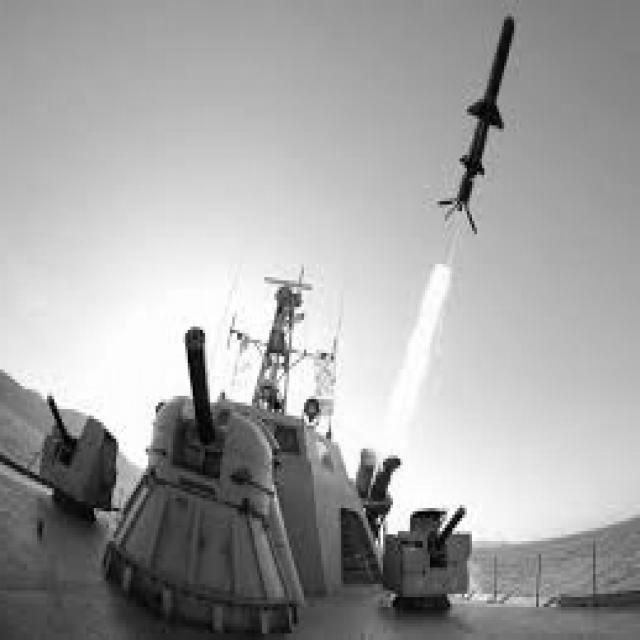missile: (446, 12, 518, 226)
